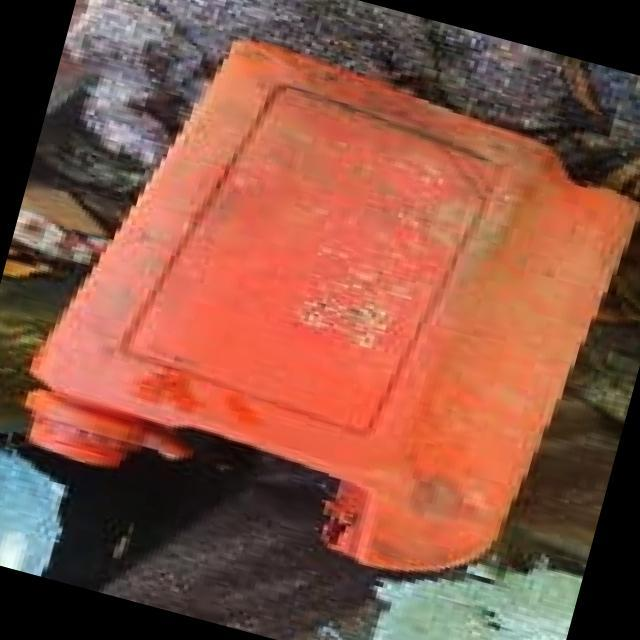HDPE Plastic: (19, 36, 640, 578)
